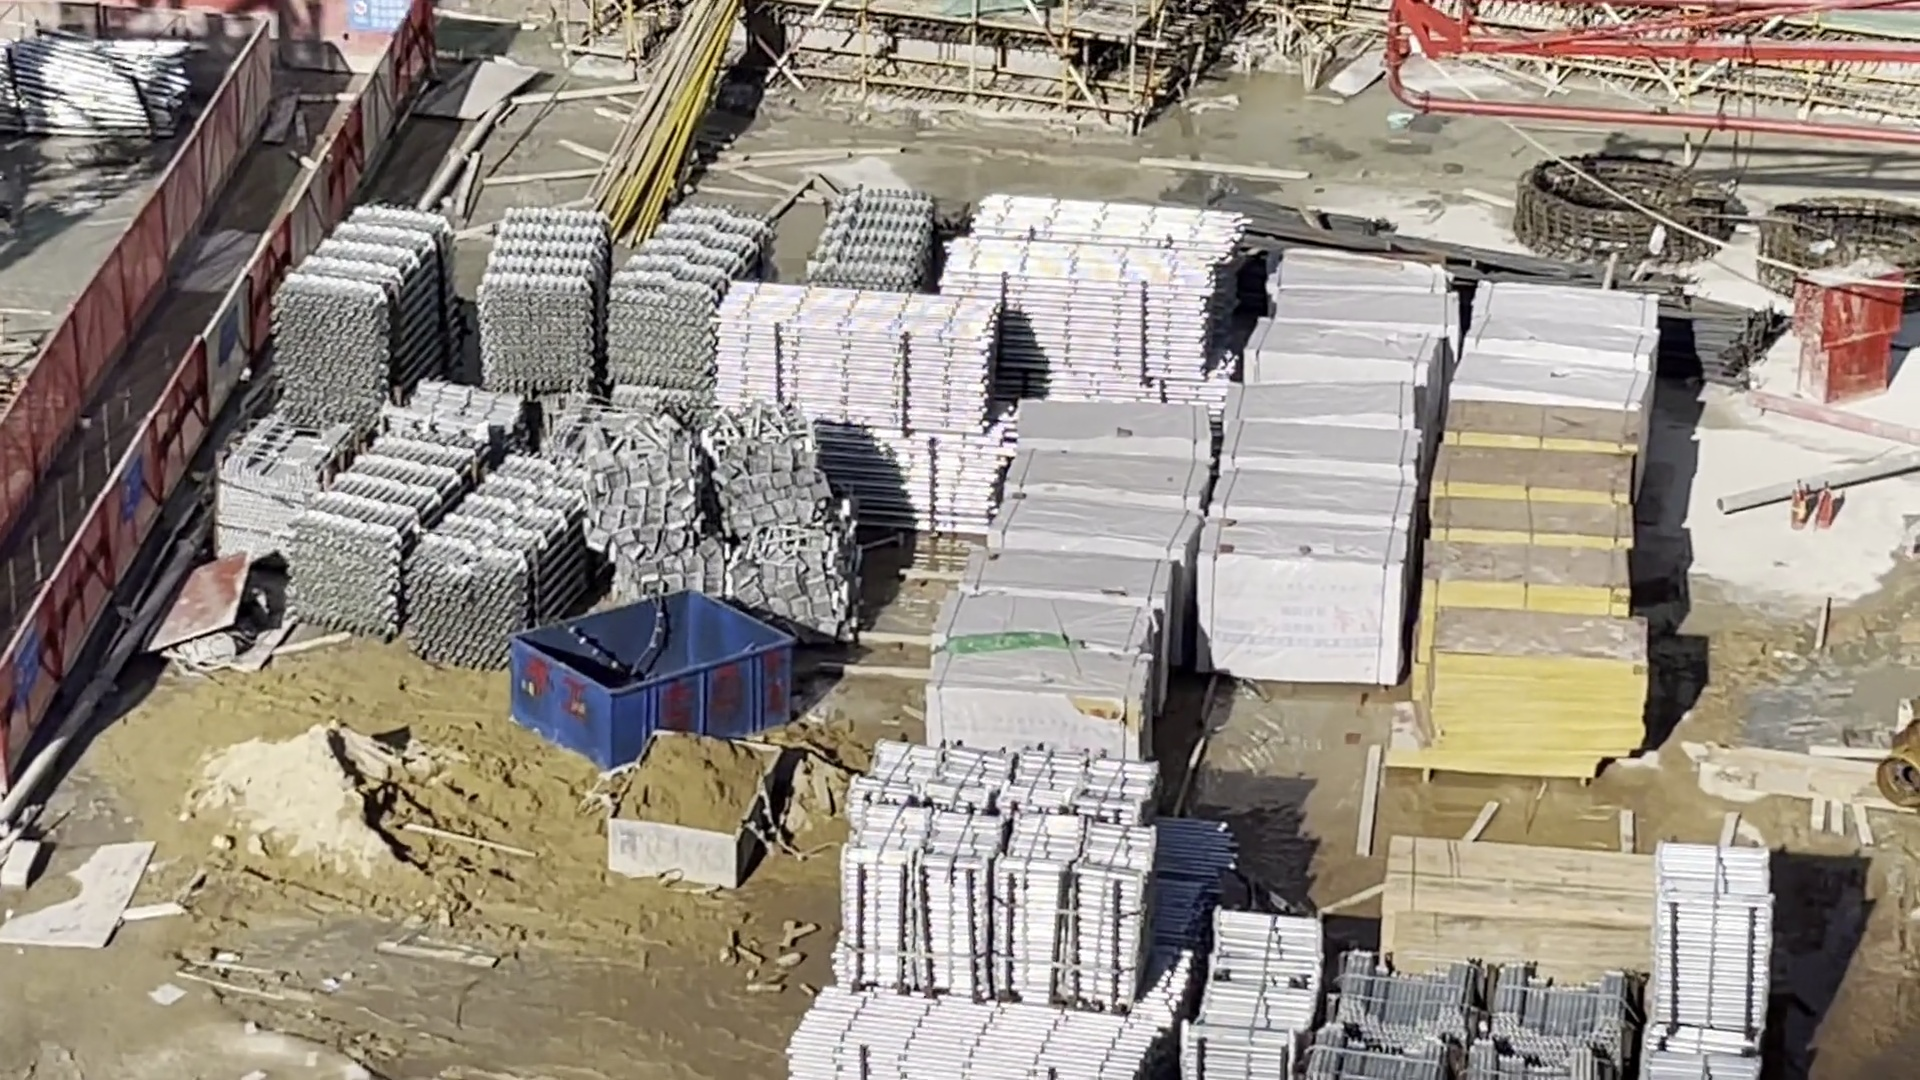board: (1419, 401, 1642, 766), (1375, 835, 1659, 977)
fence: (8, 11, 419, 750)
hopper: (508, 591, 796, 773), (605, 729, 783, 887)
rebar: (1226, 208, 1768, 381)
scaffold: (840, 746, 1158, 1011), (715, 287, 993, 538), (302, 440, 596, 655), (951, 203, 1244, 407), (481, 203, 767, 380), (1312, 949, 1650, 1080), (276, 204, 448, 438), (773, 982, 1150, 1080), (1175, 903, 1333, 1077), (1646, 845, 1762, 1080), (8, 41, 183, 127), (815, 181, 936, 295)
slogan: (348, 1, 415, 38), (117, 443, 146, 514), (13, 622, 33, 702)
